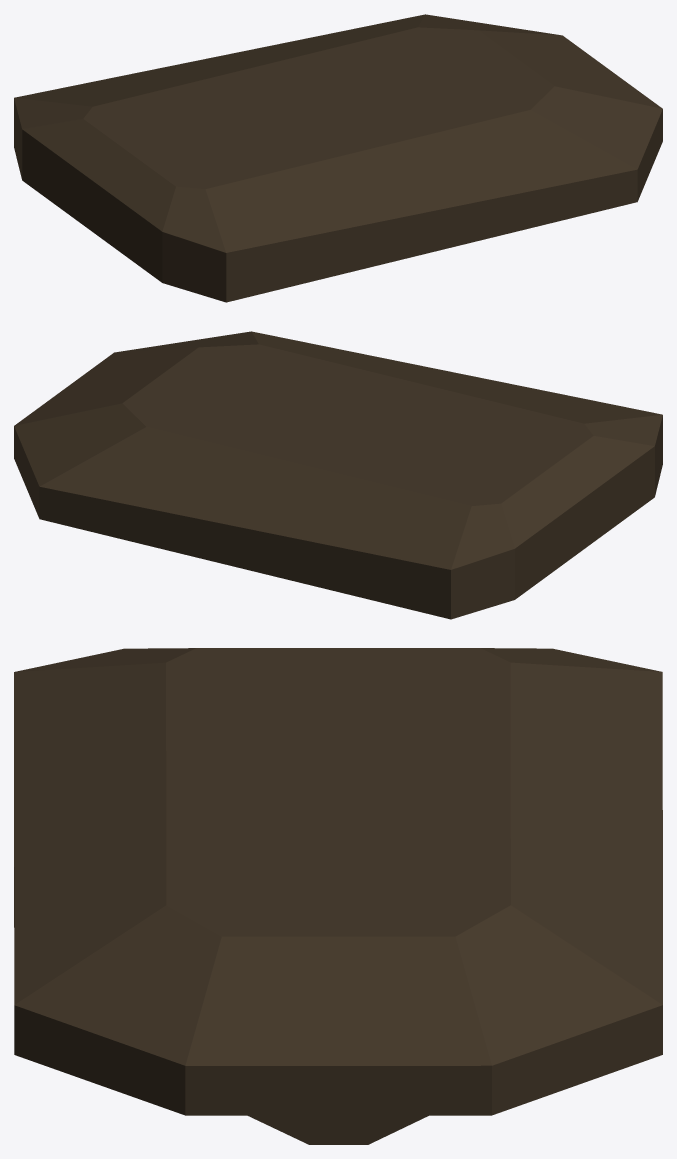
Rendered from tank_tower.fbx.
3 views of the same model, one above another, from view 1: azimuth 30°, elevation 25°; view 2: azimuth 150°, elevation 25°; view 3: azimuth 270°, elevation 25° (orthographic). The views are drawn at different scales.
Parts seen in each view (by area): view 1: Cube.001; view 2: Cube.001; view 3: Cube.001.
Boxes of the visible parts, x1,y1,x2,y2 form: Cube.001: (14,14,662,302); Cube.001: (14,331,662,619); Cube.001: (14,648,662,1144).
Bounding box in the file's own units: 112 × 18.32 × 79.09.
